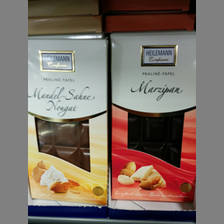chocolate: (110, 32, 196, 202), (28, 36, 109, 206)
